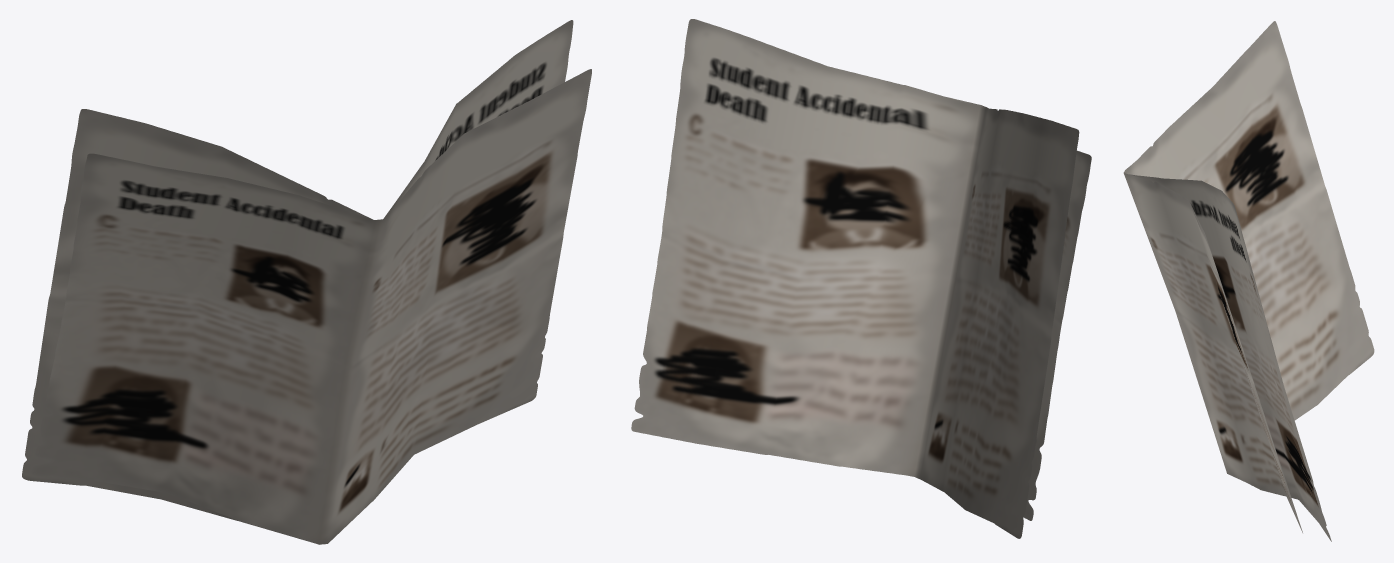
The model's file is report news paper.fbx.
3 renders of one model, left to right at view 1: azimuth 30°, elevation 25°; view 2: azimuth 150°, elevation 25°; view 3: azimuth 270°, elevation 25°, orthographic. The views are drawn at different scales.
Parts seen in each view (by area): view 1: Cube.001; view 2: Cube.001; view 3: Cube.001.
Part boxes in pixels (x1,y1,x2,y2): Cube.001: [22, 20, 591, 544]; Cube.001: [631, 19, 1091, 538]; Cube.001: [1123, 21, 1374, 541].
Bounding box in the file's own units: 252 × 236 × 146.
1 material, 1 textured.
